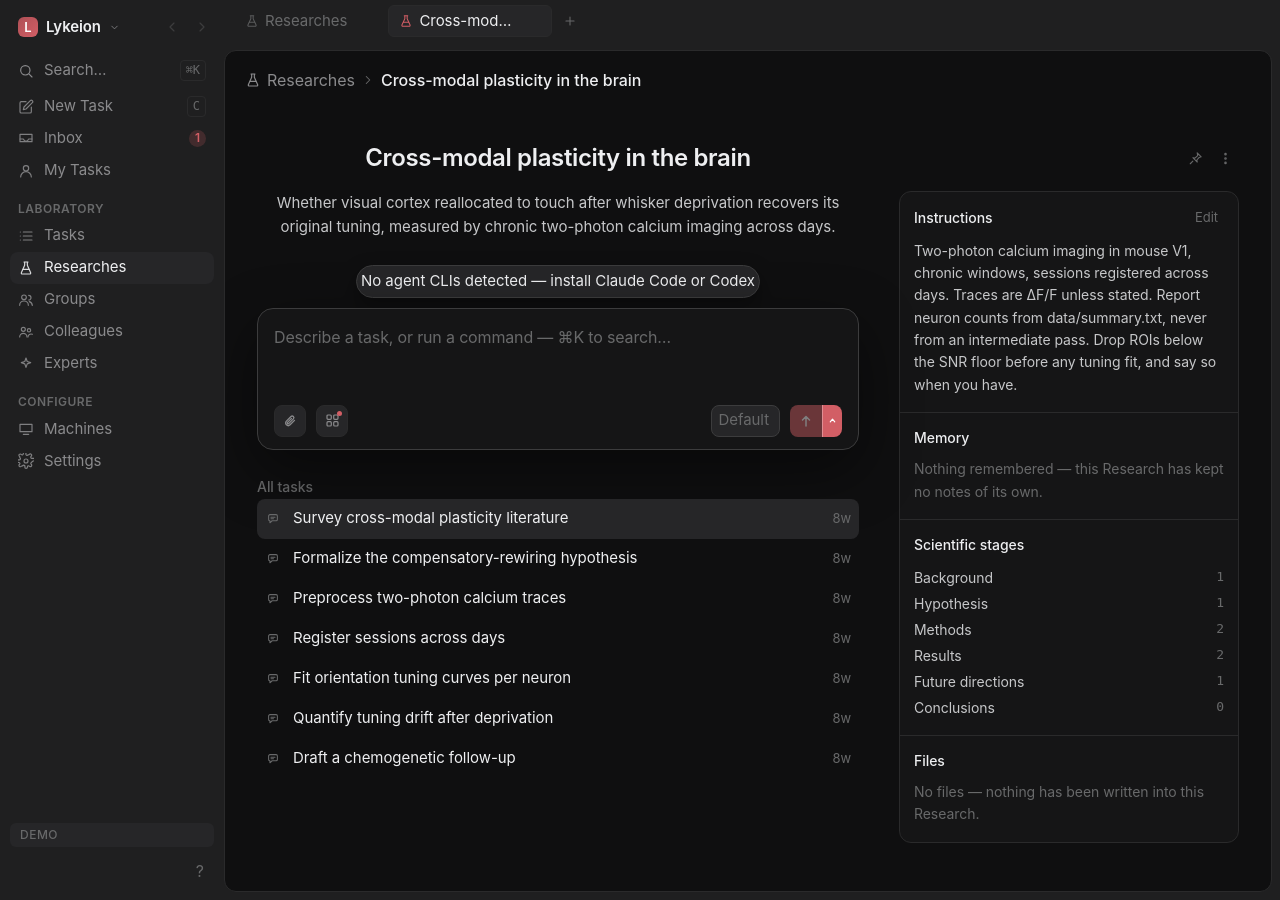
Scenario: the Research's head actions › offers edit, archive and delete behind the one menu
Click the button named "Research actions" at (1225, 158), box [1211,144,1239,172]
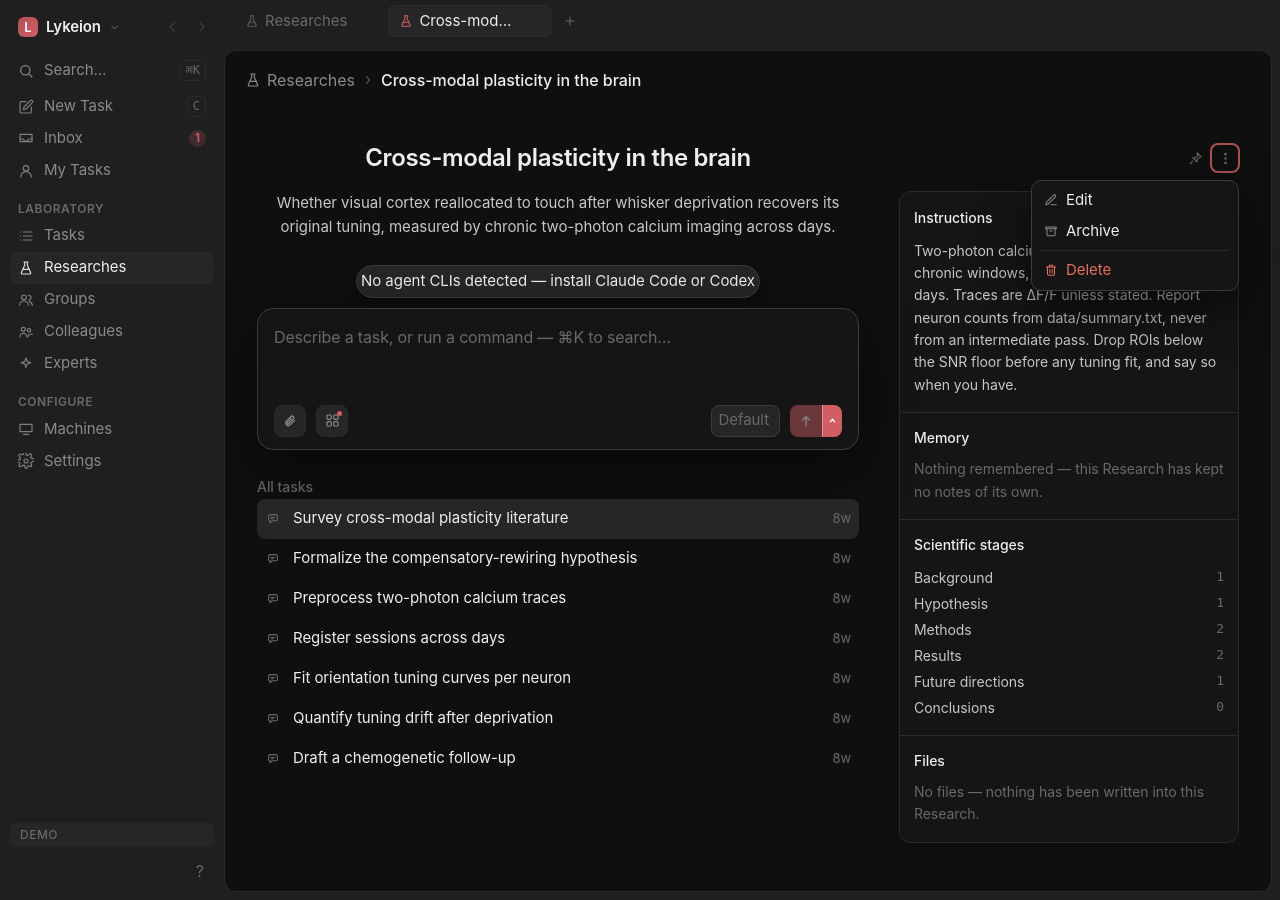
Now the menu item "Edit" is shown, box [1036,185,1234,216]
Now the menu item "Archive" is shown, box [1036,216,1234,246]
Now the menu item "Delete" is shown, box [1036,255,1234,286]
